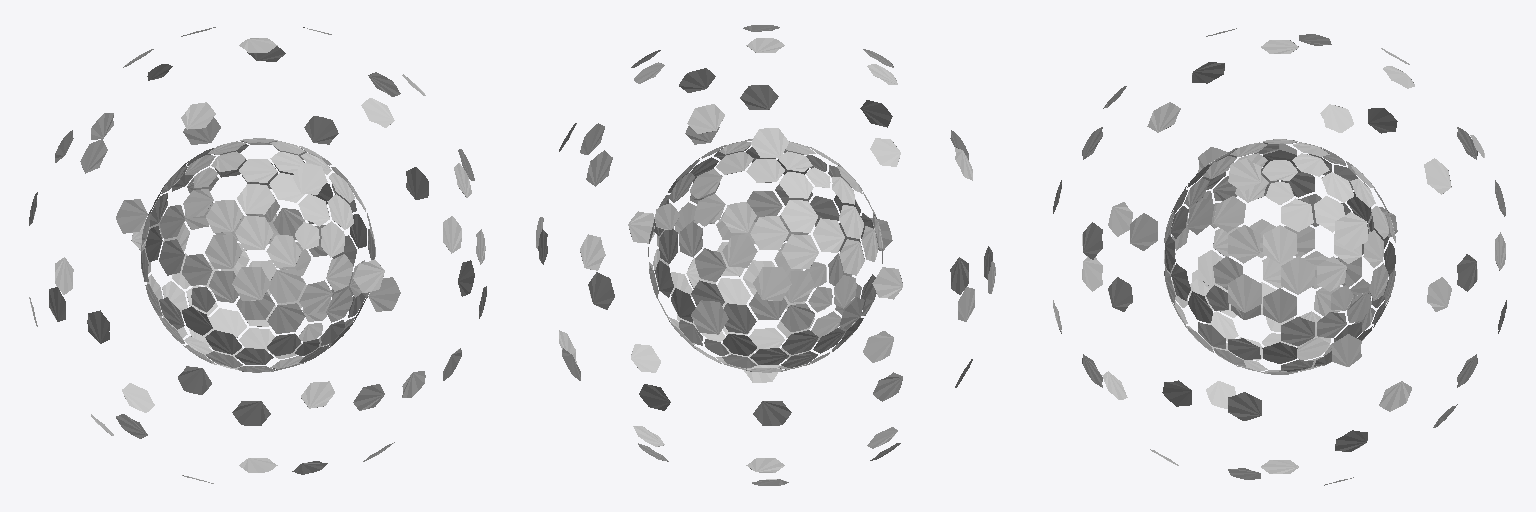
The model's file is hexx01 N-gons.obj.
The picture shows the model from 3 angles: view 1: azimuth 30°, elevation 25°; view 2: azimuth 150°, elevation 25°; view 3: azimuth 270°, elevation 25°; orthographic projection.
Visible parts, largest first — view 1: Subdivision_Surface; view 2: Subdivision_Surface; view 3: Subdivision_Surface.
Part boxes in pixels (left/top/right/bottom): Subdivision_Surface: left=29, top=27, right=486, bottom=483; Subdivision_Surface: left=536, top=25, right=995, bottom=485; Subdivision_Surface: left=1053, top=28, right=1506, bottom=485.
Bounding box in the file's own units: 384 × 389 × 380.